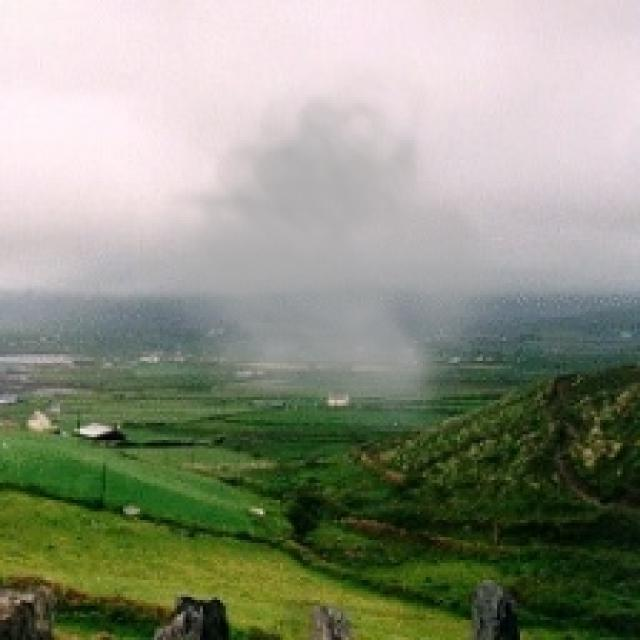smoke: (137, 51, 523, 432)
